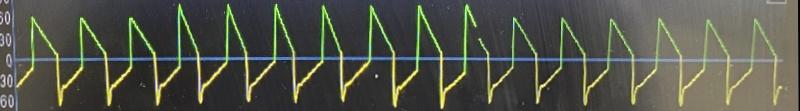peepi: (19, 0, 781, 111)
